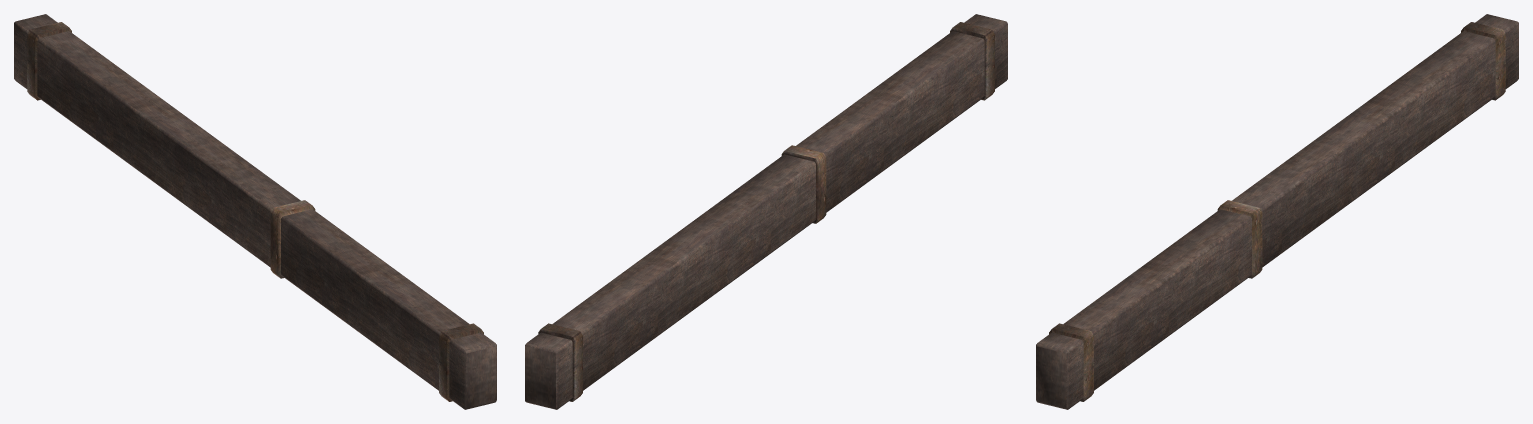
Rendered from woodbolt.fbx.
The picture shows the model from 3 angles, left to right: view 1: azimuth 30°, elevation 25°; view 2: azimuth 150°, elevation 25°; view 3: azimuth 330°, elevation 25°; orthographic projection.
Parts seen in each view (by area): view 1: Mesh Object; view 2: Mesh Object; view 3: Mesh Object.
Boxes of the visible parts, box(x1,y1,x2,y2) form: Mesh Object: box(14, 14, 496, 409); Mesh Object: box(525, 14, 1007, 409); Mesh Object: box(1036, 14, 1518, 409).
Size of the model in its own units: 0.3779 by 0.6379 by 8.
